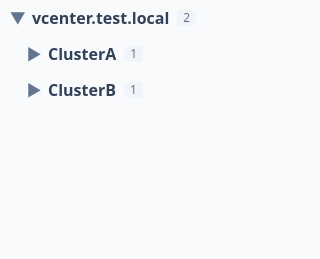
Test: InventoryTree (INV-01 — flatten-visible + lazy children) › a collapsed host's VMs are absent until the host is expanded
Click the button named "ClusterA" at [34, 54], box 24,44 -> 44,64
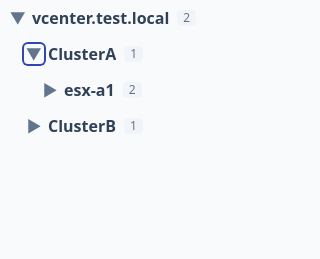
expect the text "vm-a-1" is not shown: met
Click the button named "esx-a1" at [50, 90], box 40,80 -> 60,100
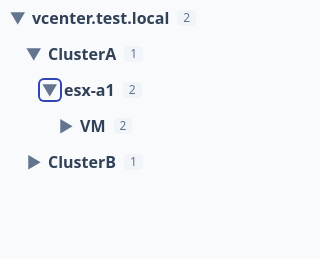
expect the text "vm-a-1" is not shown: met
# Expand the VM group to see the guests.
Click the button named "VM" at [66, 126], box 56,116 -> 76,136
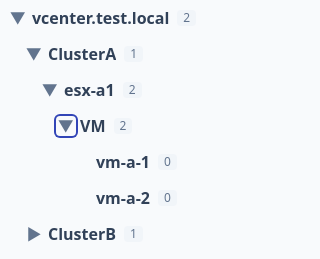
expect the text "vm-a-1" is shown: met, box 96,150 -> 150,174
expect the text "vm-a-2" is shown: met, box 96,186 -> 150,210
